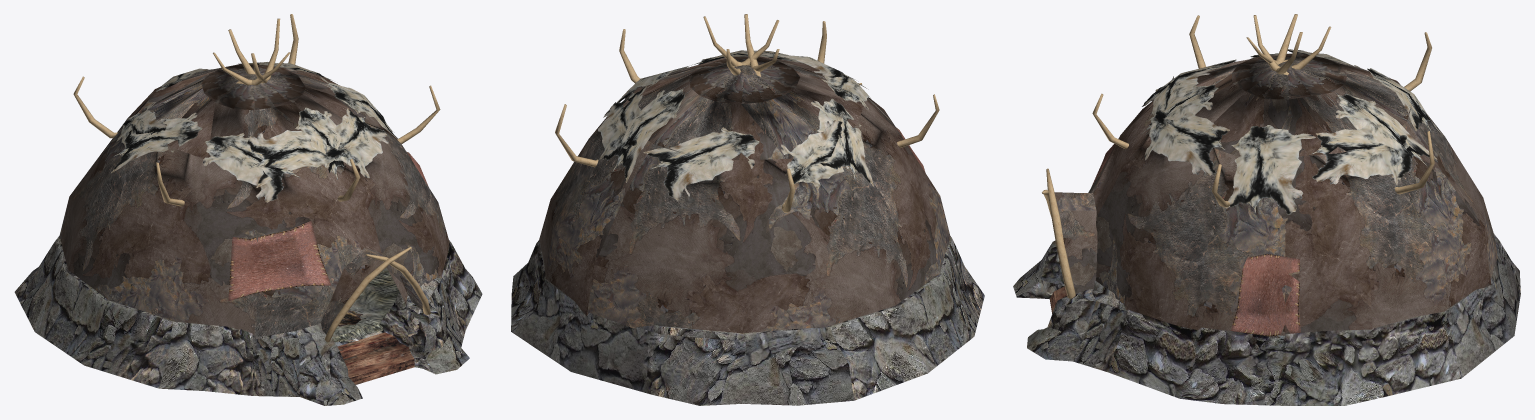
File: boneskin_hut2.FBX
3 renders of one model, left to right at view 1: azimuth 30°, elevation 25°; view 2: azimuth 150°, elevation 25°; view 3: azimuth 270°, elevation 25°, orthographic. The views are drawn at different scales.
Parts seen in each view (by area): view 1: boneskin_hut2; view 2: boneskin_hut2; view 3: boneskin_hut2.
Boxes of the visible parts, box(x1,y1,x2,y2) form: boneskin_hut2: box(14, 14, 482, 405); boneskin_hut2: box(511, 14, 984, 405); boneskin_hut2: box(1013, 14, 1520, 405).
Bounding box in the file's own units: 98.17 × 65.41 × 104.
